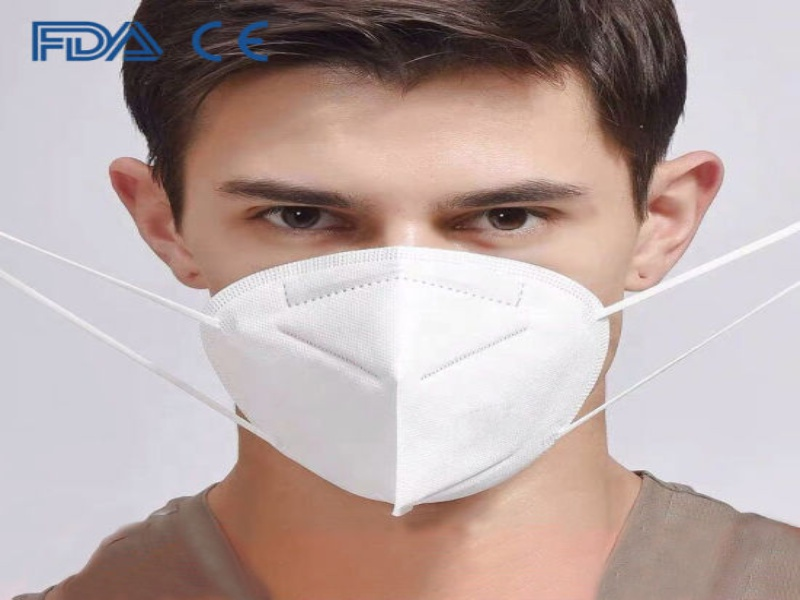ManaoArotava: (104, 26, 667, 538)
